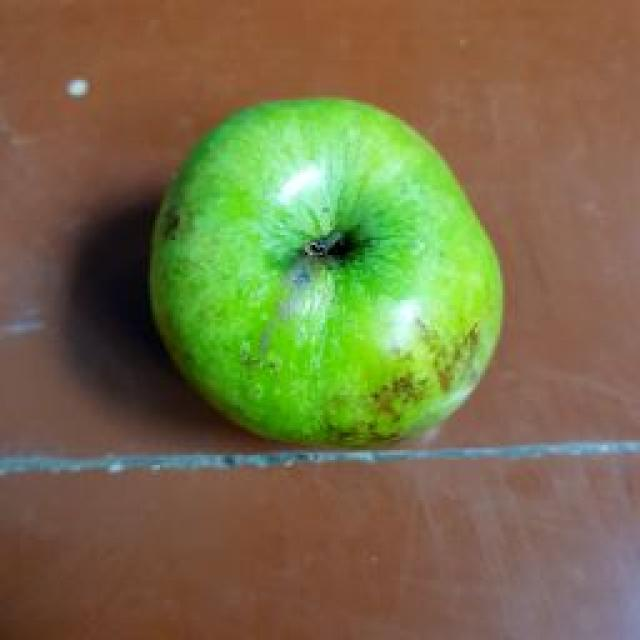Good_Apple: (150, 98, 501, 444)
